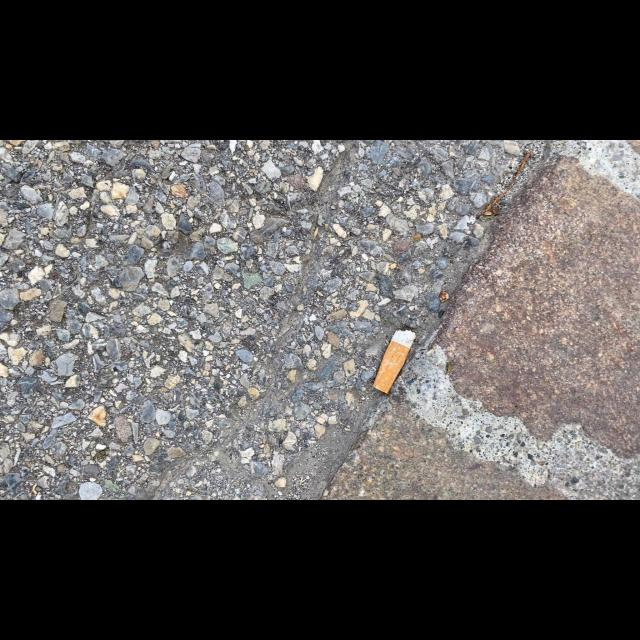cigarette: (372, 328, 417, 394)
